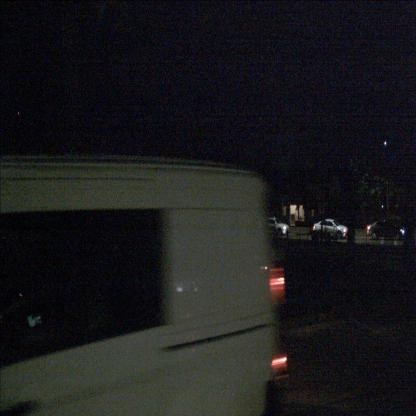vehicle-car: (0, 152, 276, 416), (367, 219, 405, 240), (313, 219, 348, 240), (261, 217, 289, 237)
